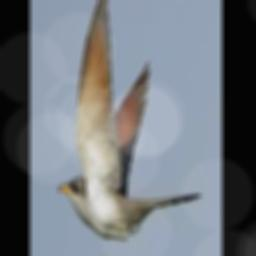Cuckoo: (59, 0, 201, 238)
